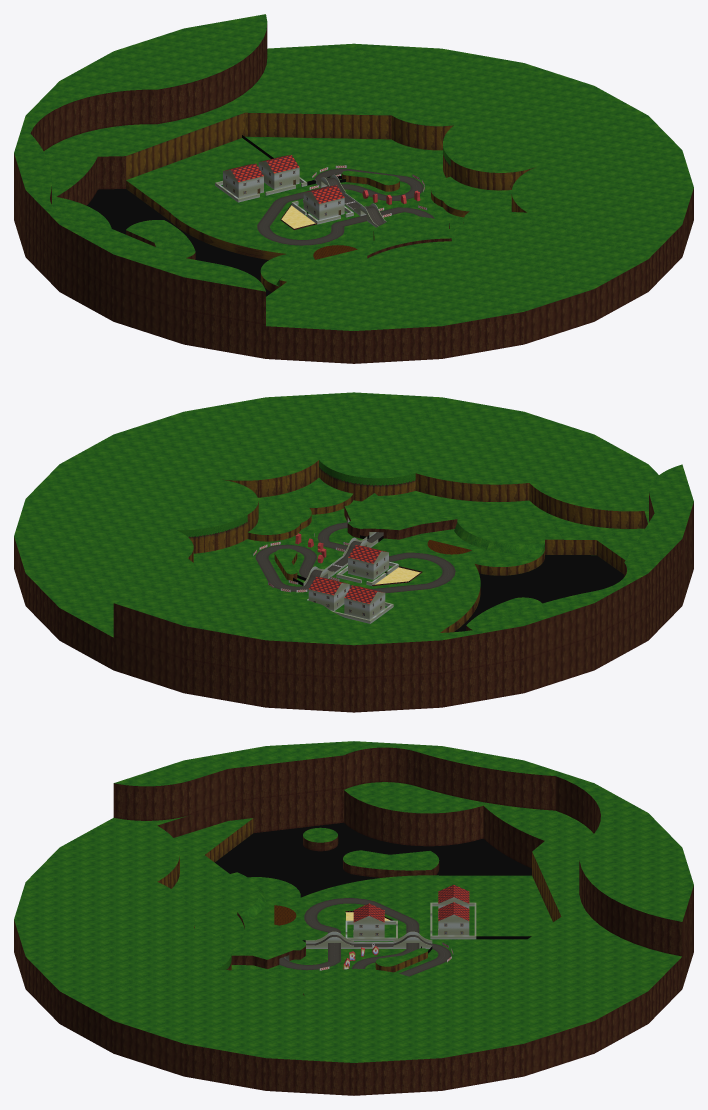
3 views of the same model, one above another, from view 1: azimuth 30°, elevation 25°; view 2: azimuth 150°, elevation 25°; view 3: azimuth 270°, elevation 25° (orthographic).
Visible parts, largest first — view 1: model3_alt3-SKP--kusa, model3_alt3-SKP--kabe, model3_alt3-SKP--kabesita, model3_alt3-SKP--tesuri, model3_alt3-SKP--water, model3_alt3-SKP--douro, model3_alt3-SKP--yane; view 2: model3_alt3-SKP--kusa, model3_alt3-SKP--kabe, model3_alt3-SKP--kabesita, model3_alt3-SKP--water, model3_alt3-SKP--tesuri, model3_alt3-SKP--douro, model3_alt3-SKP--yane; view 3: model3_alt3-SKP--kusa, model3_alt3-SKP--kabe, model3_alt3-SKP--water, model3_alt3-SKP--tesuri, model3_alt3-SKP--douro, model3_alt3-SKP--kabesita, model3_alt3-SKP--yane.
Part boxes in pixels (x1=…): model3_alt3-SKP--kusa: x1=14, y1=14, x2=693, y2=330; model3_alt3-SKP--kabe: x1=14, y1=24, x2=693, y2=363; model3_alt3-SKP--kabesita: x1=126, y1=112, x2=535, y2=292; model3_alt3-SKP--tesuri: x1=215, y1=161, x2=386, y2=227; model3_alt3-SKP--water: x1=87, y1=189, x2=271, y2=296; model3_alt3-SKP--douro: x1=257, y1=168, x2=434, y2=245; model3_alt3-SKP--yane: x1=225, y1=155, x2=344, y2=203; model3_alt3-SKP--kusa: x1=14, y1=392, x2=693, y2=645; model3_alt3-SKP--kabe: x1=14, y1=493, x2=693, y2=712; model3_alt3-SKP--kabesita: x1=177, y1=460, x2=644, y2=632; model3_alt3-SKP--water: x1=454, y1=555, x2=624, y2=631; model3_alt3-SKP--tesuri: x1=303, y1=517, x2=398, y2=623; model3_alt3-SKP--douro: x1=255, y1=522, x2=455, y2=593; model3_alt3-SKP--yane: x1=309, y1=545, x2=386, y2=603; model3_alt3-SKP--kusa: x1=14, y1=741, x2=693, y2=1062; model3_alt3-SKP--kabe: x1=14, y1=747, x2=693, y2=1095; model3_alt3-SKP--water: x1=215, y1=822, x2=531, y2=897; model3_alt3-SKP--tesuri: x1=284, y1=897, x2=476, y2=960; model3_alt3-SKP--douro: x1=279, y1=898, x2=451, y2=976; model3_alt3-SKP--kabesita: x1=157, y1=818, x2=561, y2=995; model3_alt3-SKP--yane: x1=353, y1=885, x2=469, y2=922.
Bounding box in the file's own units: 182243 × 19907 × 182243.
18 materials, 18 textured.
